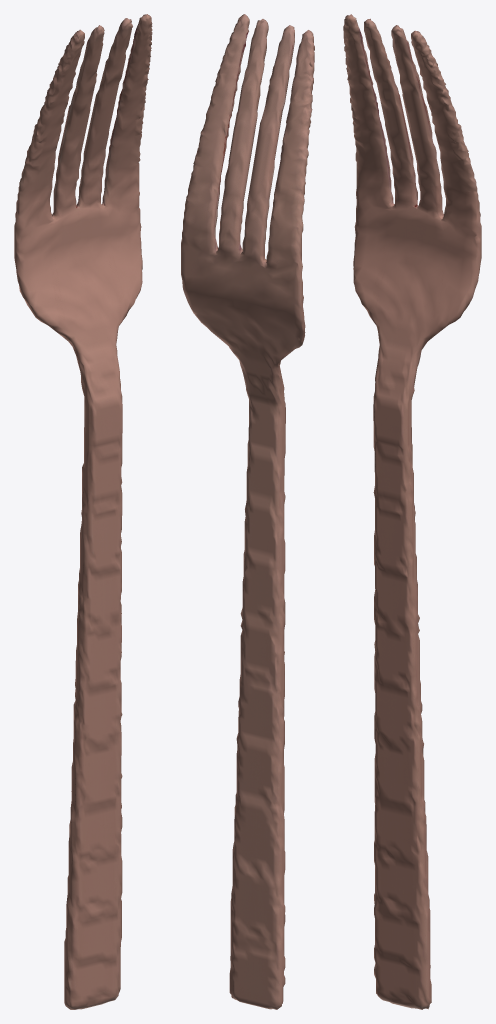
Rendered from CopperDinner_Fork_0701033412_texture.glb.
3 renders of one model, left to right at view 1: azimuth 30°, elevation 25°; view 2: azimuth 150°, elevation 25°; view 3: azimuth 330°, elevation 25°, orthographic. The views are drawn at different scales.
Parts seen in each view (by area): view 1: Mesh_0; view 2: Mesh_0; view 3: Mesh_0.
Part boxes in pixels (left/top/right/bottom): Mesh_0: left=14, top=14, right=152, bottom=1009; Mesh_0: left=181, top=14, right=314, bottom=1009; Mesh_0: left=343, top=14, right=481, bottom=1009.
Size of the model in its own units: 0.0155 by 0.12 by 0.00912.
1 material, 1 textured.
